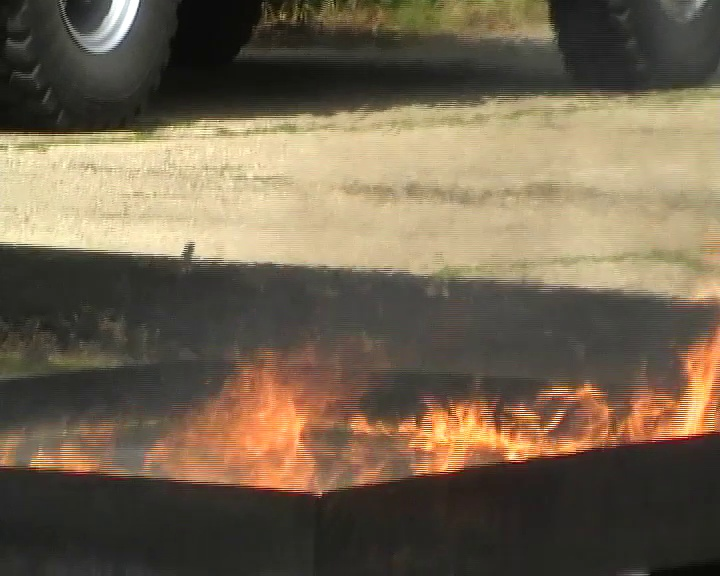fire: (145, 356, 319, 489), (411, 383, 617, 474), (627, 342, 720, 441)
